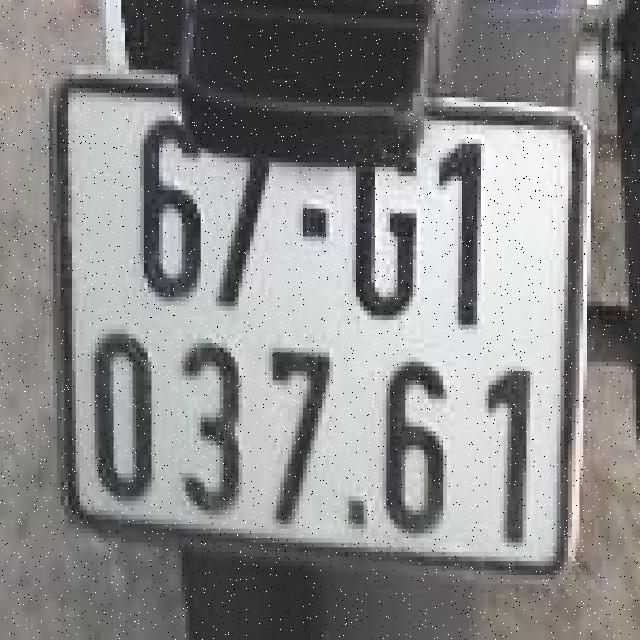0: (85, 327, 161, 512)
1: (483, 357, 547, 557), (434, 132, 491, 341)
3: (170, 332, 250, 522)
6: (377, 348, 456, 547), (133, 109, 208, 308)
7: (263, 329, 335, 529), (212, 111, 277, 311)
G: (345, 120, 424, 334)
